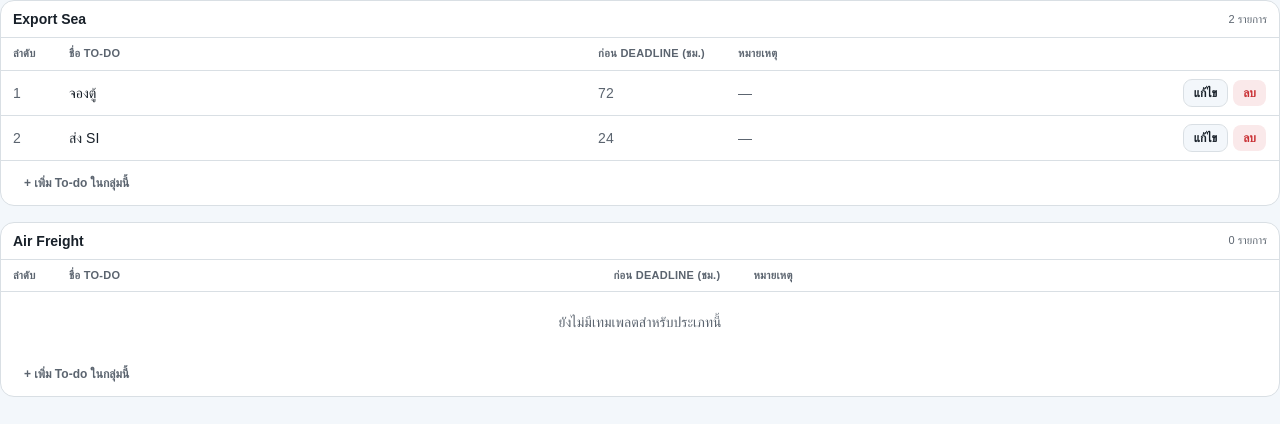
Test: TemplatesAdminClient — edit row › keeps save disabled for an empty title
Click the button "แก้ไข" in the row of "จองตู้": [1206, 93] box [1183, 79, 1228, 107]
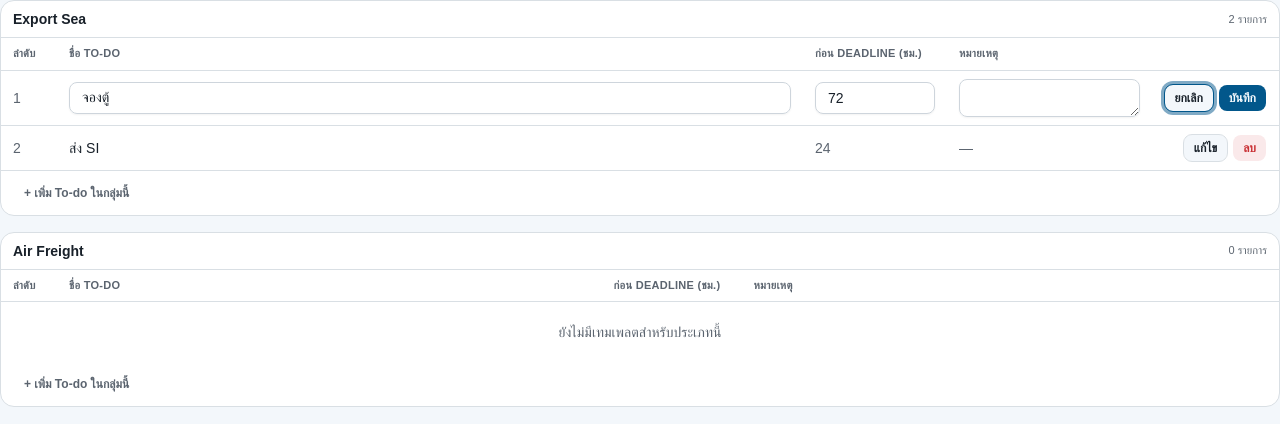
Clear the field showing "จองตู้": [430, 98] box [69, 82, 791, 114]
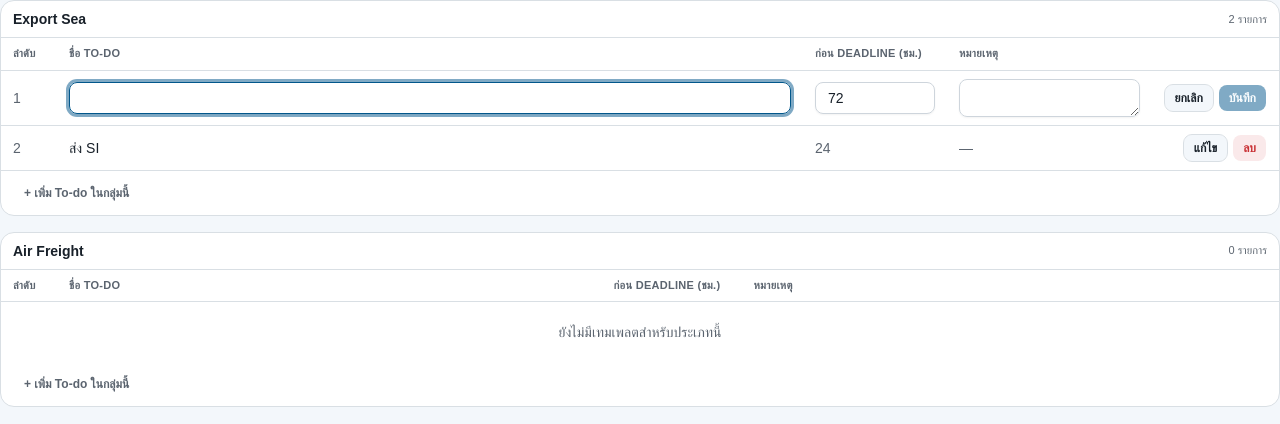
Expected: the button "บันทึก" is disabled, [1218, 84, 1267, 112]
